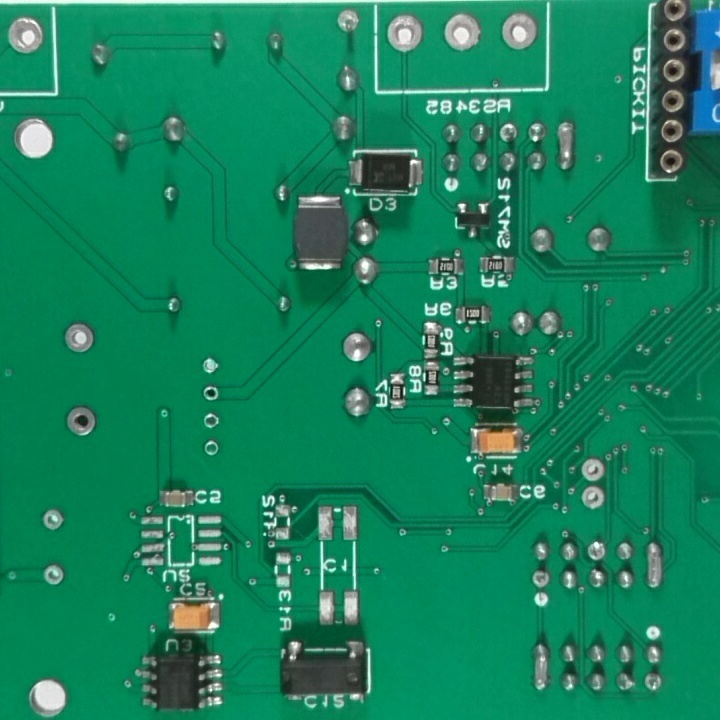F: (383, 12, 427, 57), (441, 10, 484, 56), (6, 15, 48, 58), (499, 12, 541, 53), (62, 402, 101, 440), (61, 319, 98, 357), (576, 455, 611, 484), (577, 486, 610, 515), (39, 506, 67, 536), (335, 6, 361, 38), (584, 538, 610, 564), (644, 670, 666, 700), (41, 563, 67, 588), (498, 119, 522, 146), (530, 568, 556, 592), (198, 353, 221, 378), (199, 383, 221, 406), (201, 411, 222, 433), (201, 438, 220, 460)
P: (553, 118, 579, 177), (642, 538, 667, 595), (528, 639, 553, 695)
